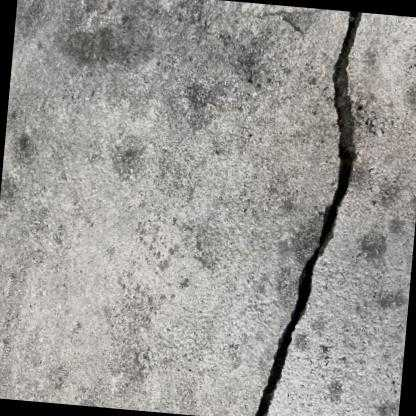crack: (256, 12, 362, 416)
